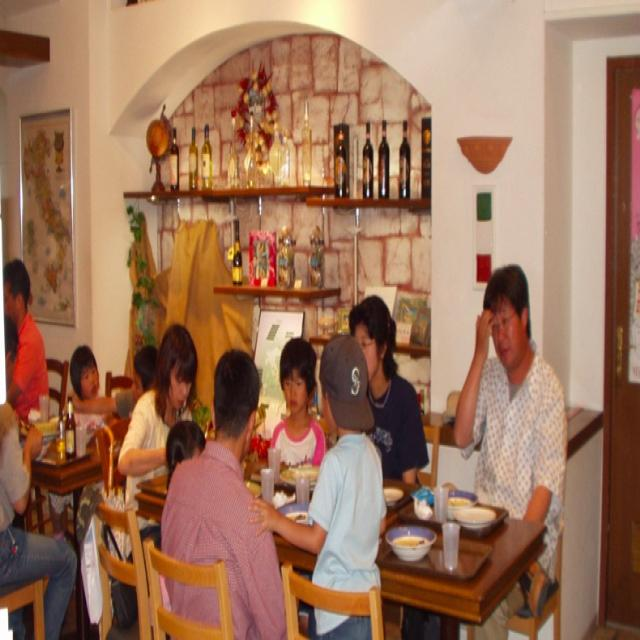body: (346, 291, 640, 640), (449, 257, 572, 639), (160, 347, 289, 640), (0, 311, 79, 640), (115, 321, 199, 561), (267, 333, 328, 475), (2, 257, 51, 432), (268, 333, 329, 468), (65, 344, 103, 446), (164, 417, 208, 494), (69, 344, 100, 402)
